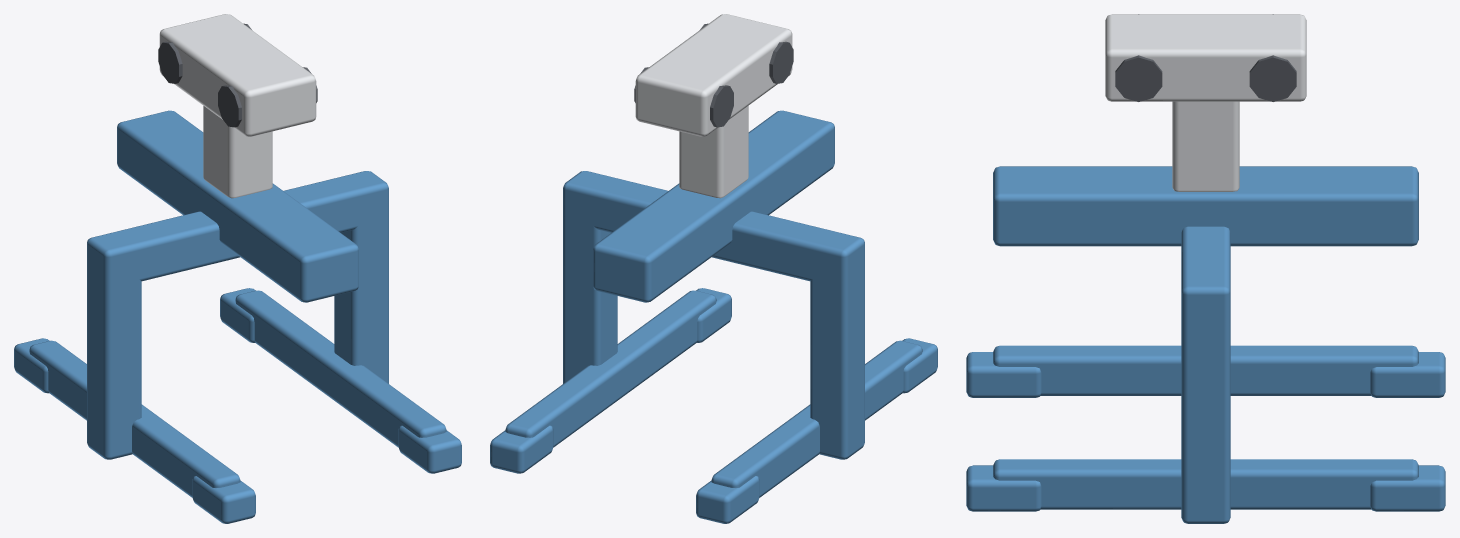
Rendered from overhead-carrier-hanger.glb.
3 views of the same model, side by side, from view 1: azimuth 30°, elevation 25°; view 2: azimuth 150°, elevation 25°; view 3: azimuth 270°, elevation 25° (orthographic). The views are drawn at different scales.
Visible parts, largest first — view 1: travel/blue, travel/steel, travel/dark; view 2: travel/blue, travel/steel, travel/dark; view 3: travel/blue, travel/steel, travel/dark.
Part boxes in pixels (left/top/right/bottom): travel/blue: left=14, top=110, right=461, bottom=523; travel/steel: left=159, top=14, right=316, bottom=198; travel/dark: left=158, top=23, right=317, bottom=127; travel/blue: left=490, top=110, right=937, bottom=523; travel/steel: left=635, top=14, right=792, bottom=198; travel/dark: left=634, top=23, right=793, bottom=127; travel/blue: left=966, top=166, right=1445, bottom=523; travel/steel: left=1105, top=14, right=1306, bottom=191; travel/dark: left=1115, top=14, right=1296, bottom=101.
Size of the model in its own units: 1.66 by 2.05 by 2.14.
